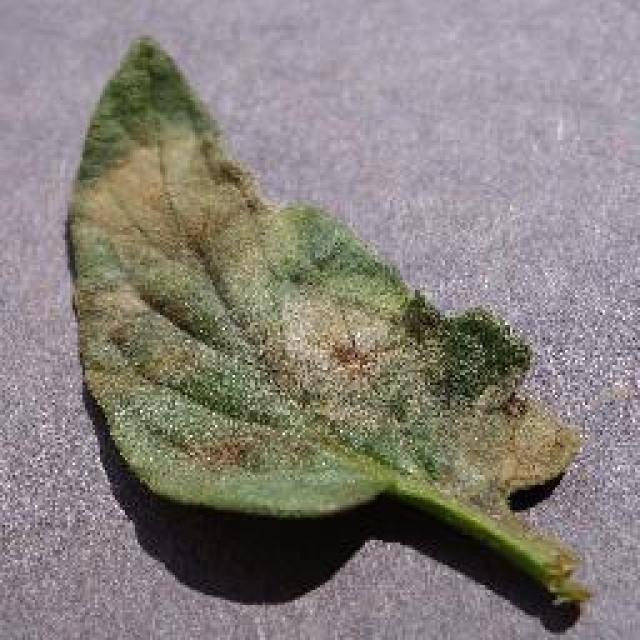Tomato late blight leaf: (63, 25, 590, 522)
